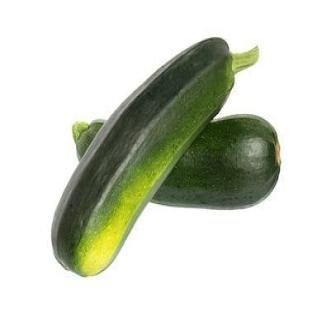Zucchini: (52, 39, 258, 275), (152, 116, 280, 208)
